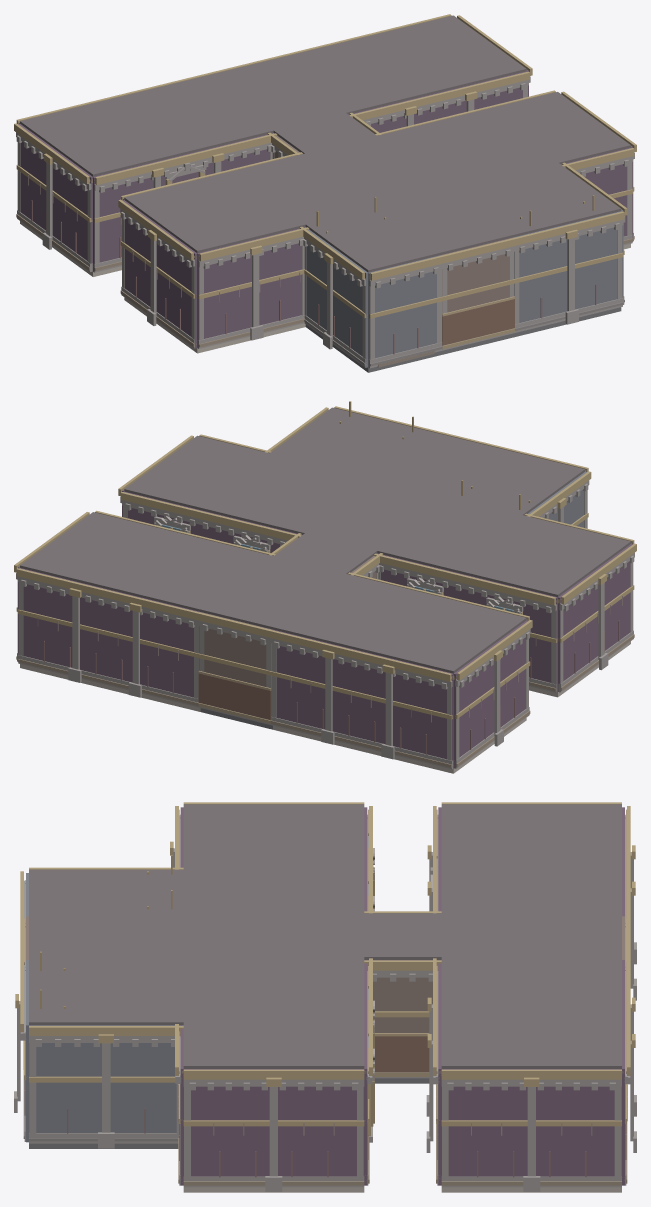
The model's file is floor_01.glb.
3 renders of one model, top to bottom at view 1: azimuth 30°, elevation 25°; view 2: azimuth 150°, elevation 25°; view 3: azimuth 270°, elevation 25°, orthographic. The views are drawn at different scales.
Visible parts, largest first — view 1: fe-f1-hall-ceiling, fe-f1-room1-ceiling, fe-f1-room2-ceiling, fe-f1-room3-ceiling, fe-f1-room4-ceiling, fe-f1-spiral-ceiling, fe-f1-room3-top-end, fe-f1-spiral-top-end, fe-f1-regular-ceiling, fe-f1-room1-left-end, fe-f1-regular-top-end, fe-f1-room3-left-end (+32 smaller); view 2: fe-f1-hall-ceiling, fe-f1-room1-ceiling, fe-f1-room3-ceiling, fe-f1-room2-ceiling, fe-f1-room4-ceiling, fe-f1-room1-bottom-end, fe-f1-room2-bottom-end, fe-f1-spiral-ceiling, fe-f1-regular-ceiling, fe-f1-room3-left-end, fe-f1-room1-left-end, fe-f1-hall-bottom-end (+29 smaller); view 3: fe-f1-hall-ceiling, fe-f1-room4-ceiling, fe-f1-room2-ceiling, fe-f1-room3-ceiling, fe-f1-room1-ceiling, fe-f1-room4-right-end, fe-f1-room2-right-end, fe-f1-spiral-right-end, fe-f1-spiral-ceiling, fe-f1-regular-ceiling, fe-f1-hall-right-1-solid, fe-f1-hall-right-finish-1-solid-lower (+31 smaller).
Boxes of the visible parts, left/top/right/bottom form: fe-f1-hall-ceiling: left=201, top=59, right=512, bottom=254; fe-f1-room1-ceiling: left=20, top=77, right=273, bottom=176; fe-f1-room2-ceiling: left=273, top=15, right=526, bottom=114; fe-f1-room3-ceiling: left=124, top=153, right=377, bottom=253; fe-f1-room4-ceiling: left=377, top=92, right=630, bottom=189; fe-f1-spiral-ceiling: left=450, top=163, right=621, bottom=237; fe-f1-room3-top-end: left=197, top=227, right=305, bottom=348; fe-f1-spiral-top-end: left=513, top=211, right=622, bottom=322; fe-f1-regular-ceiling: left=305, top=207, right=440, bottom=272; fe-f1-room1-left-end: left=18, top=123, right=92, bottom=271; fe-f1-regular-top-end: left=368, top=255, right=440, bottom=367; fe-f1-room3-left-end: left=122, top=200, right=197, bottom=348; fe-f1-hall-ceiling: left=200, top=434, right=512, bottom=629; fe-f1-room1-ceiling: left=273, top=574, right=526, bottom=673; fe-f1-room3-ceiling: left=377, top=497, right=630, bottom=597; fe-f1-room2-ceiling: left=20, top=512, right=273, bottom=611; fe-f1-room4-ceiling: left=124, top=435, right=377, bottom=534; fe-f1-room1-bottom-end: left=272, top=629, right=453, bottom=768; fe-f1-room2-bottom-end: left=19, top=568, right=200, bottom=697; fe-f1-spiral-ceiling: left=270, top=407, right=439, bottom=479; fe-f1-regular-ceiling: left=450, top=451, right=584, bottom=515; fe-f1-room3-left-end: left=558, top=544, right=632, bottom=692; fe-f1-room1-left-end: left=453, top=620, right=528, bottom=768; fe-f1-hall-bottom-end: left=200, top=612, right=272, bottom=716; fe-f1-hall-ceiling: left=29, top=913, right=621, bottom=959; fe-f1-room4-ceiling: left=183, top=957, right=364, bottom=1068; fe-f1-room2-ceiling: left=441, top=957, right=621, bottom=1068; fe-f1-room3-ceiling: left=183, top=804, right=364, bottom=913; fe-f1-room1-ceiling: left=441, top=804, right=621, bottom=913; fe-f1-room4-right-end: left=183, top=1069, right=364, bottom=1176; fe-f1-room2-right-end: left=441, top=1069, right=621, bottom=1176; fe-f1-spiral-right-end: left=29, top=1025, right=183, bottom=1132; fe-f1-spiral-ceiling: left=29, top=957, right=183, bottom=1025; fe-f1-regular-ceiling: left=29, top=869, right=183, bottom=913; fe-f1-hall-right-1-solid: left=364, top=960, right=441, bottom=1032; fe-f1-hall-right-finish-1-solid-lower: left=375, top=1036, right=429, bottom=1072.
Size of the model in its own units: 15.34 by 3.79 by 14.73.
